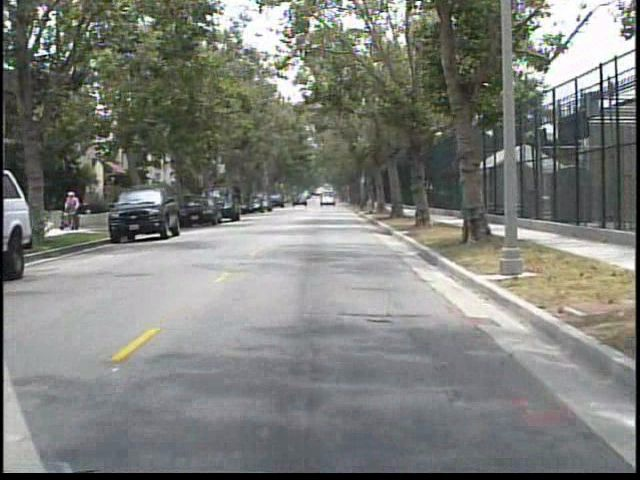person: (63, 188, 86, 233)
